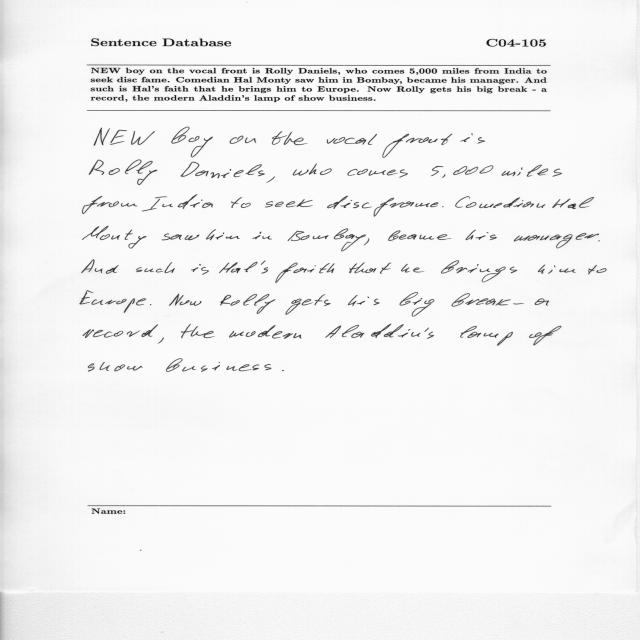word: (288, 229, 366, 252), (90, 160, 158, 185), (383, 134, 453, 158), (441, 261, 517, 283), (325, 324, 434, 339), (166, 358, 272, 372), (83, 226, 147, 249), (80, 291, 146, 313), (180, 162, 265, 178), (514, 233, 599, 248), (171, 127, 213, 157), (275, 262, 335, 283), (374, 198, 439, 217), (142, 195, 213, 212), (220, 294, 275, 314), (94, 128, 155, 146), (455, 196, 546, 208), (460, 326, 513, 346), (83, 324, 158, 338), (229, 325, 302, 339), (83, 196, 138, 214), (286, 294, 331, 315), (400, 292, 435, 317), (452, 293, 511, 307), (431, 165, 493, 178), (501, 165, 562, 177), (388, 230, 452, 241), (219, 261, 268, 274), (529, 326, 562, 345), (327, 196, 372, 209), (327, 134, 377, 145), (88, 362, 143, 372), (347, 169, 408, 178), (82, 260, 119, 274), (293, 163, 332, 176), (272, 131, 308, 145), (552, 197, 594, 209), (349, 262, 391, 274), (181, 324, 215, 338), (265, 199, 313, 208), (136, 262, 175, 273), (169, 294, 201, 306), (206, 230, 240, 241), (348, 295, 380, 306), (538, 265, 576, 274), (465, 230, 497, 240), (461, 133, 485, 144), (162, 234, 199, 241), (230, 135, 257, 144), (231, 197, 251, 208), (401, 264, 425, 273), (191, 264, 209, 275), (588, 265, 607, 274), (252, 232, 272, 240), (535, 298, 549, 306), (266, 176, 275, 183), (364, 239, 370, 246), (158, 337, 164, 344), (513, 303, 524, 304), (442, 207, 444, 208), (598, 241, 600, 242), (282, 370, 284, 371), (150, 305, 151, 306)
